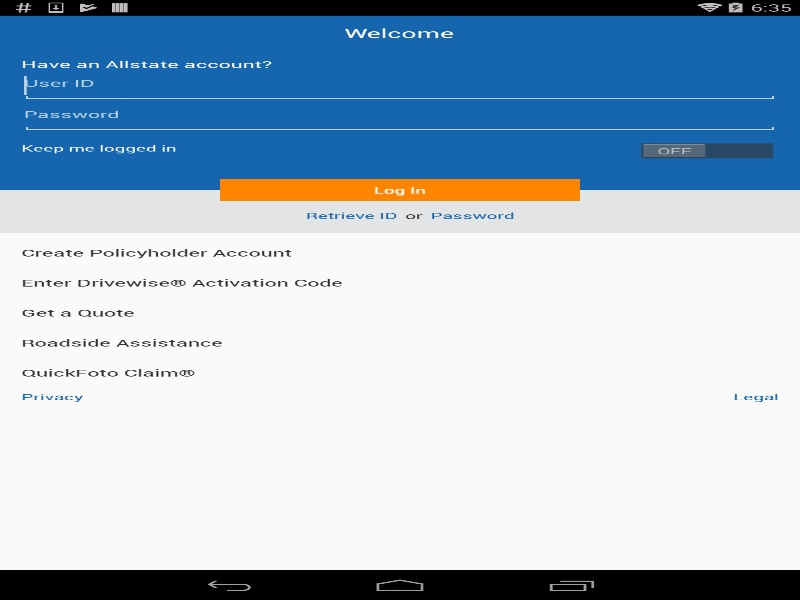Button: (220, 178, 580, 201)
Input: (21, 70, 778, 100), (21, 102, 778, 132)
